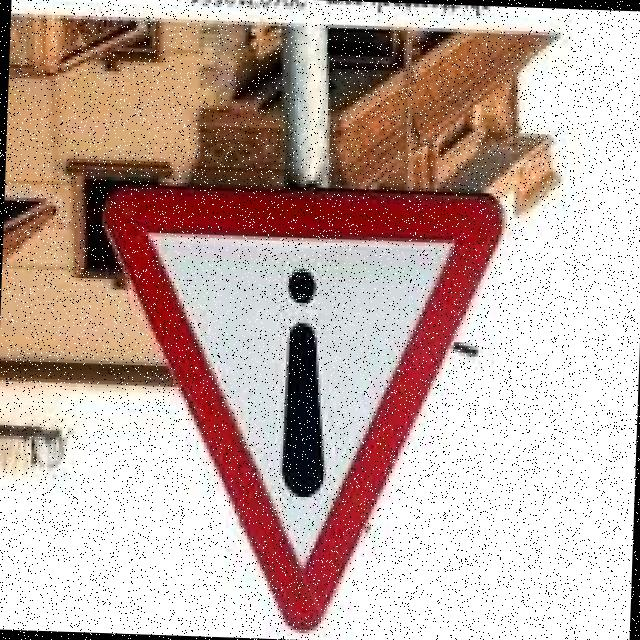warning: (84, 155, 511, 640)
